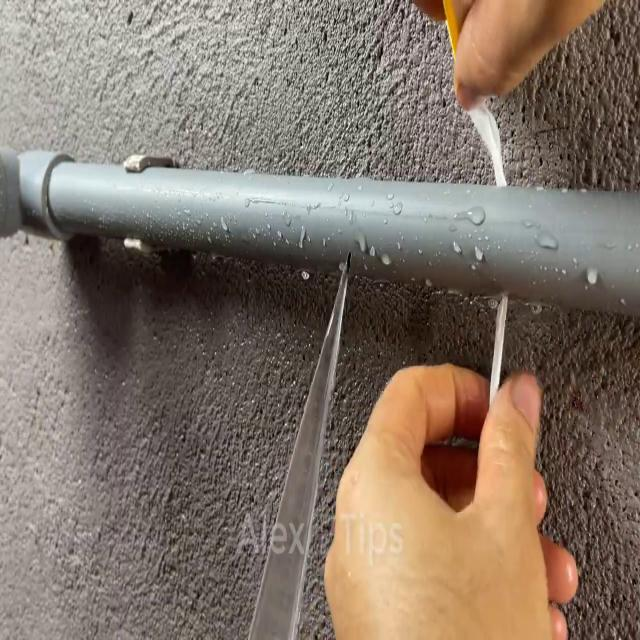leak: (249, 257, 349, 640)
